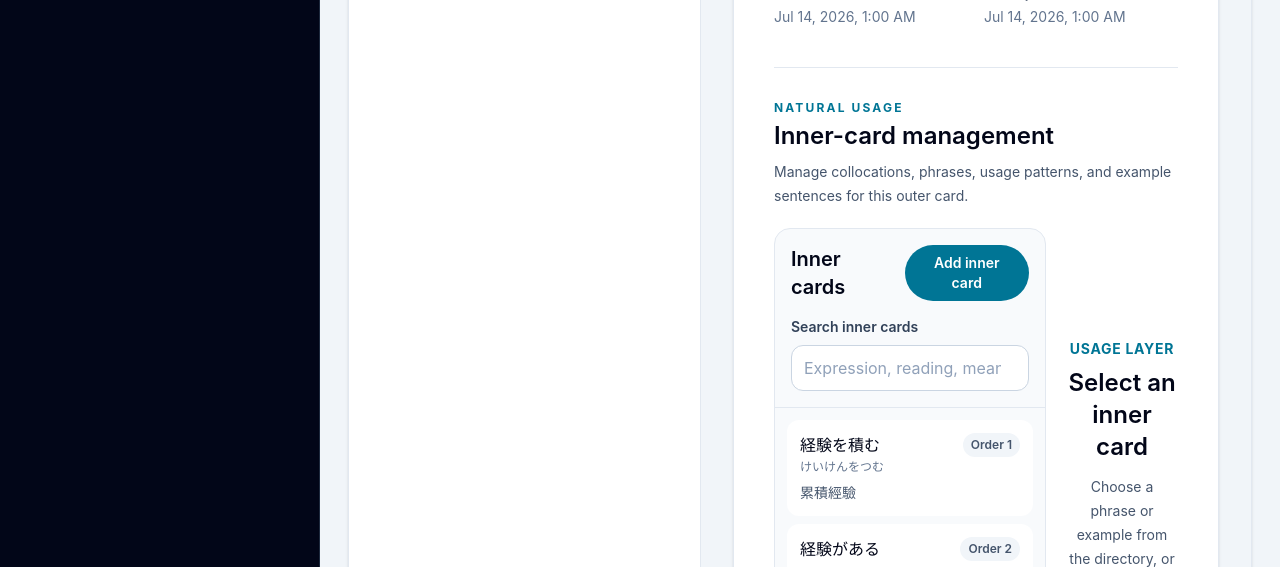
inner-card create and edit › opens create and validates required fields
(page scrolled)
Expected: the heading "Inner-card management" is shown, top-left (774, 121), bottom-right (1054, 150)
Click the button "Add inner card".
click(967, 273)  # box top-left (904, 245), bottom-right (1029, 301)
(page scrolled)
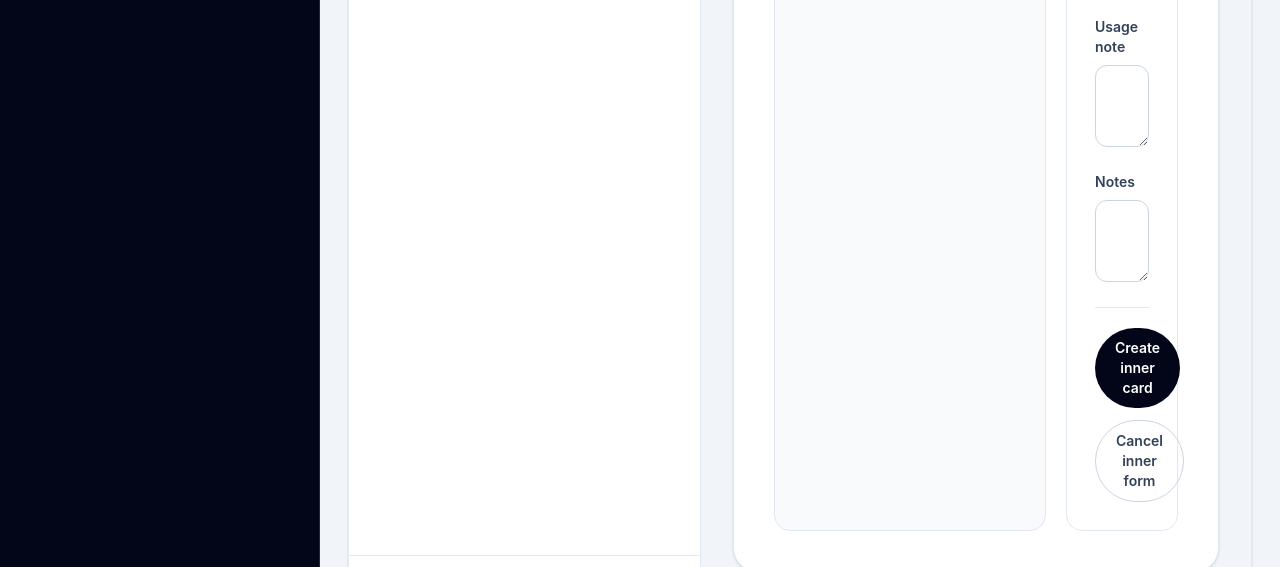
Click the button "Create inner card".
click(1138, 368)  # box top-left (1095, 328), bottom-right (1180, 408)
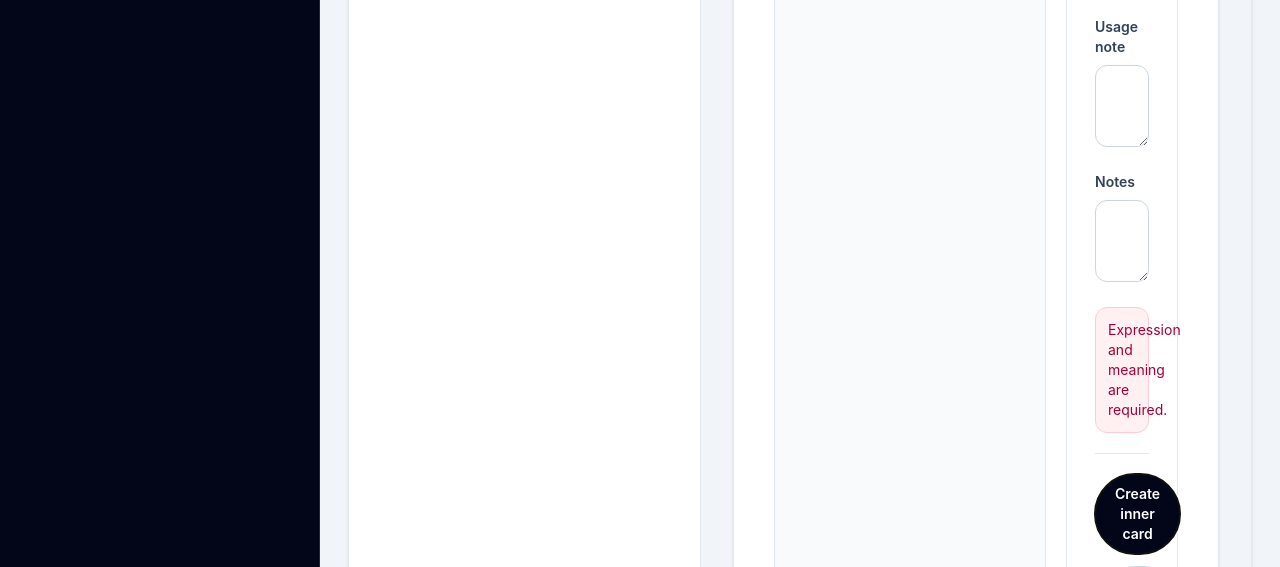
Expected: the text "Expression and meaning are required." is shown, top-left (1095, 307), bottom-right (1149, 433)
